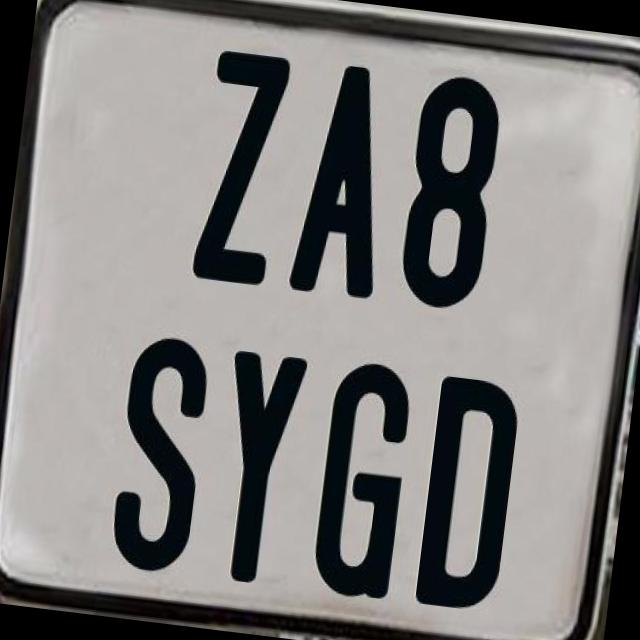8: (394, 70, 508, 314)
A: (286, 58, 402, 304)
D: (411, 375, 527, 621)
G: (304, 356, 416, 606)
S: (106, 333, 218, 586)
Y: (207, 346, 313, 584)
Z: (192, 46, 298, 283)
